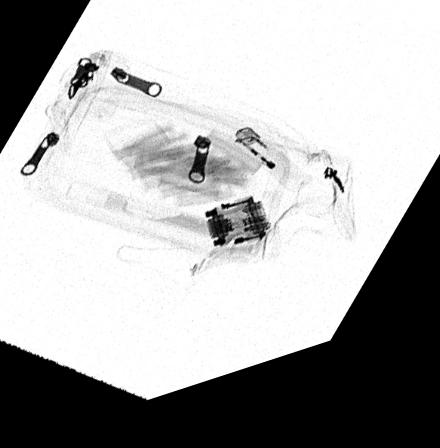Lighter: (231, 142, 312, 212)
